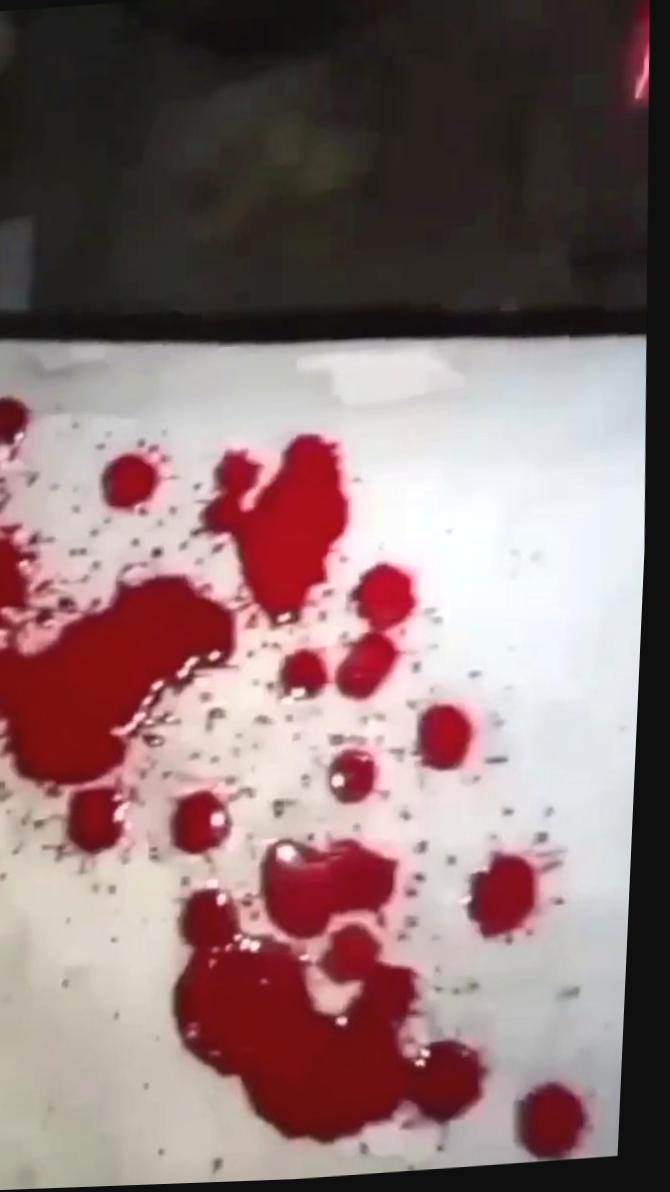Fire: (0, 397, 498, 1148), (476, 858, 545, 943), (526, 1089, 597, 1166), (103, 446, 169, 511), (424, 709, 479, 775)
